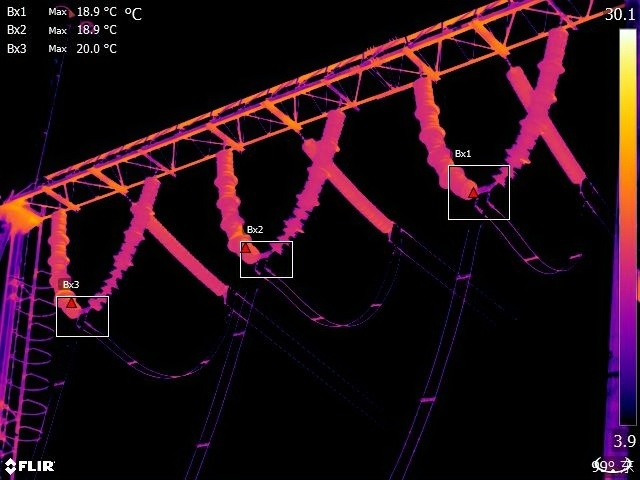clamp: (472, 197, 496, 215), (251, 263, 276, 279)
insulator: (492, 21, 565, 184), (271, 106, 344, 246), (509, 63, 588, 192), (91, 171, 160, 312), (307, 138, 398, 233), (415, 69, 479, 199), (144, 214, 226, 298), (215, 147, 259, 265), (44, 212, 84, 321)
